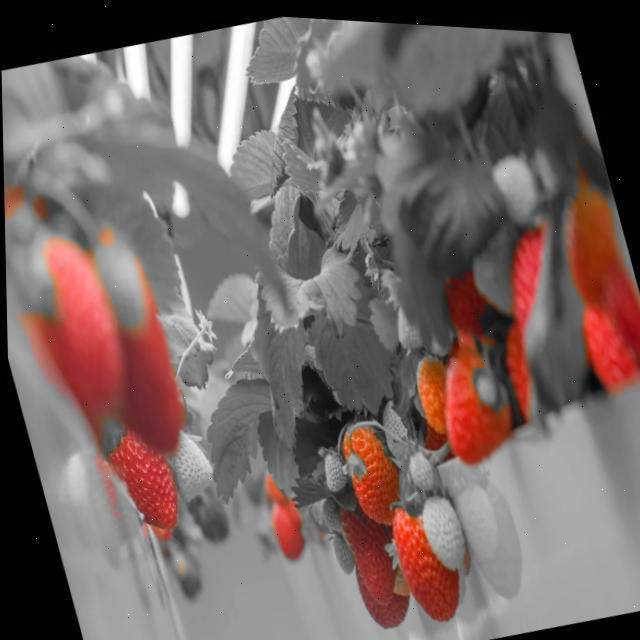ripe: (82, 224, 192, 448), (22, 229, 136, 412), (422, 325, 526, 465), (100, 422, 190, 550), (379, 495, 466, 626), (332, 409, 412, 524), (492, 225, 566, 338), (336, 497, 406, 605), (572, 291, 640, 390), (346, 555, 408, 634), (264, 497, 308, 564)
unripe: (418, 490, 477, 582), (94, 242, 152, 330), (162, 424, 222, 506), (314, 441, 356, 497), (400, 438, 441, 494)
